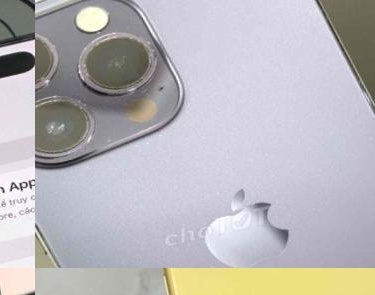scratch: (67, 13, 174, 109), (35, 79, 120, 177), (35, 17, 67, 105)
